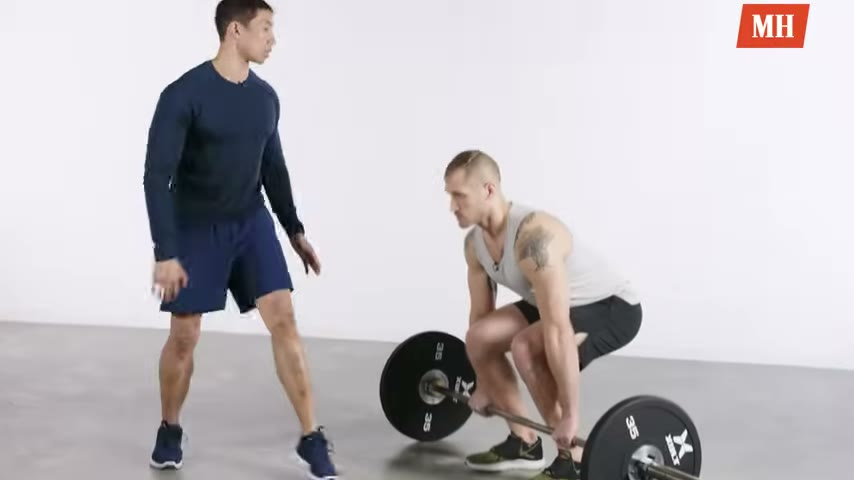barbell_plate_side: (370, 329, 465, 480), (631, 367, 708, 480)
